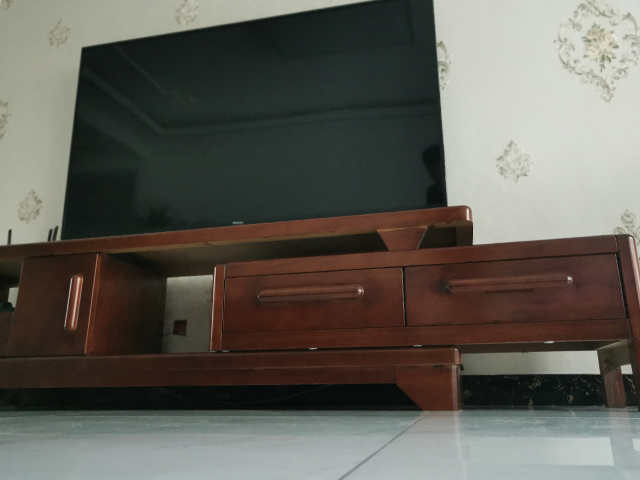cabinet: (1, 203, 640, 412)
